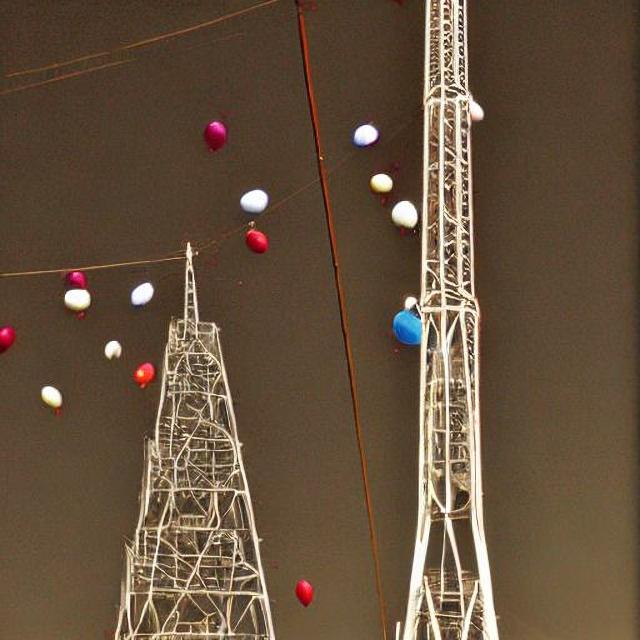balloon: (384, 296, 426, 344), (59, 268, 91, 318), (198, 117, 228, 156), (390, 198, 421, 234), (239, 222, 270, 256), (236, 186, 268, 213), (125, 279, 155, 305), (38, 382, 63, 413), (133, 355, 155, 390), (351, 119, 379, 146), (292, 576, 314, 608), (367, 170, 392, 194), (0, 322, 20, 351), (107, 336, 119, 361)
